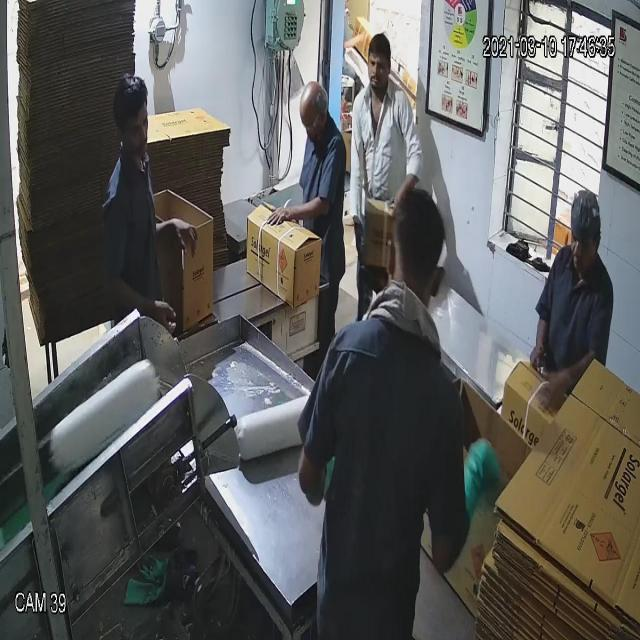No_Gloves: (66, 53, 571, 382)
